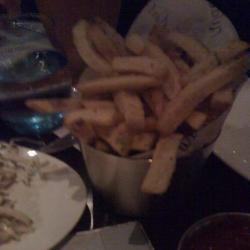fries: (50, 18, 238, 166)
